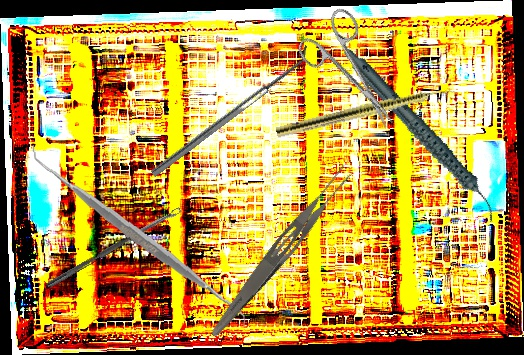Dressing Forceps: (206, 160, 357, 345)
Handpiece: (342, 23, 500, 246), (275, 81, 458, 141)
Iris Scissors: (290, 4, 416, 146)
Spatula Surgical: (31, 134, 246, 337), (146, 44, 315, 178)
Surgical Spoon: (44, 206, 183, 291)
